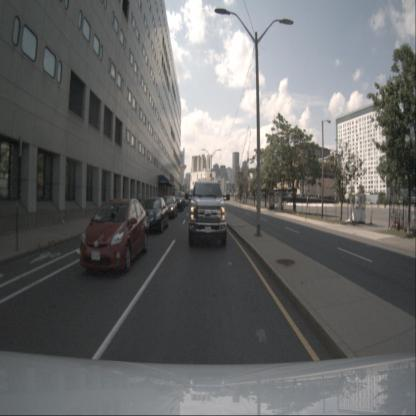human-pedestrian-adult: (137, 191, 141, 206)
movable_object-trafficcone: (392, 221, 400, 228), (413, 218, 415, 234), (411, 225, 414, 234)
vehicle-car: (80, 199, 148, 274), (189, 180, 227, 247), (142, 197, 170, 234), (162, 196, 177, 219), (172, 191, 186, 212), (183, 196, 189, 206)
